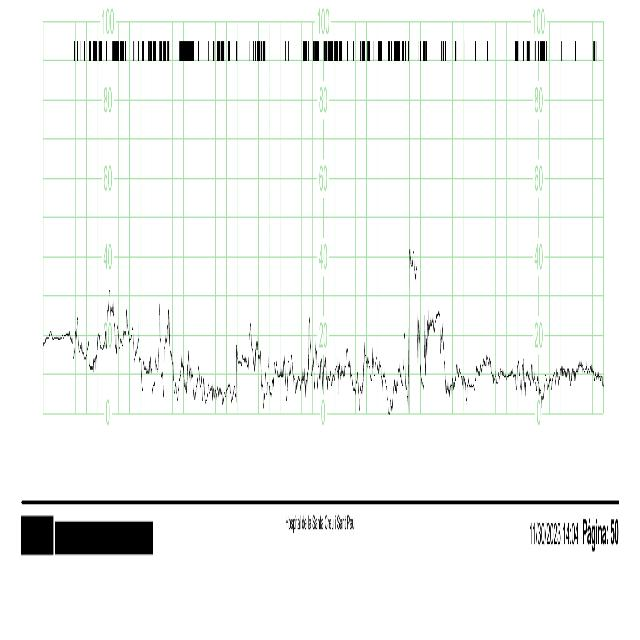contraction: (406, 245, 421, 388)
